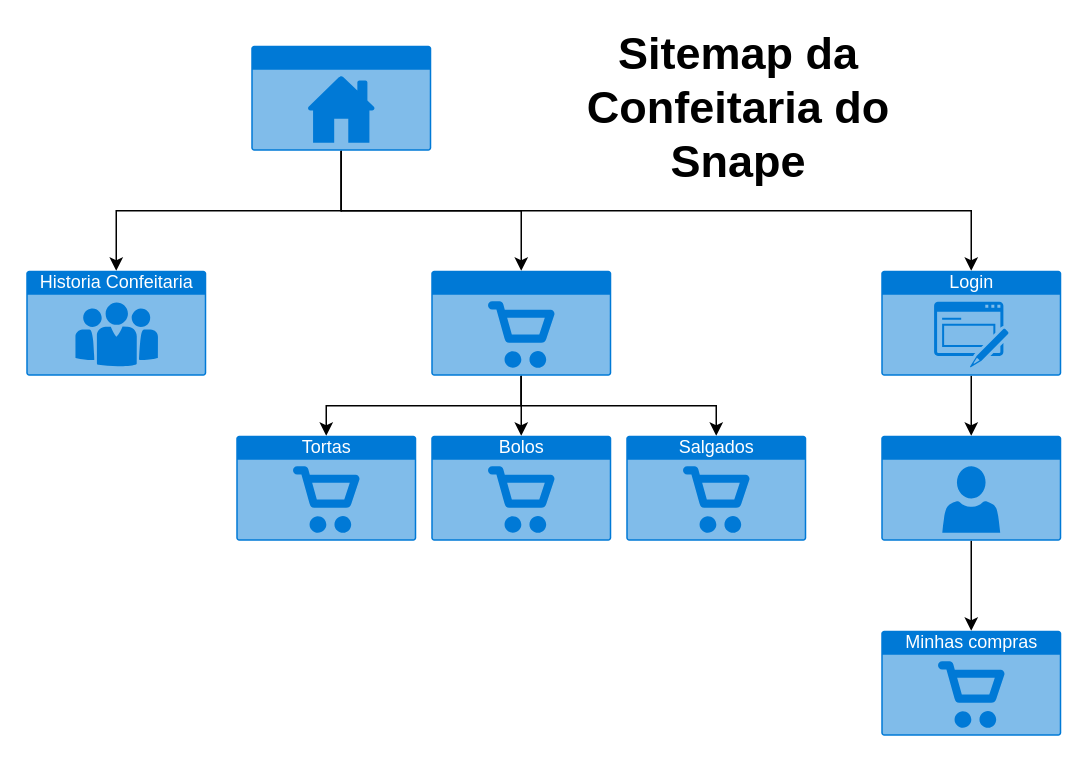
This 1086x762 diagram has some shape labels left out. The shapes that lost their labels are listed below. From the top down, each one's centre as x and y in pixels, then its label:
[340,97]: Home
[520,322]: Produtos
[970,487]: Perfil
